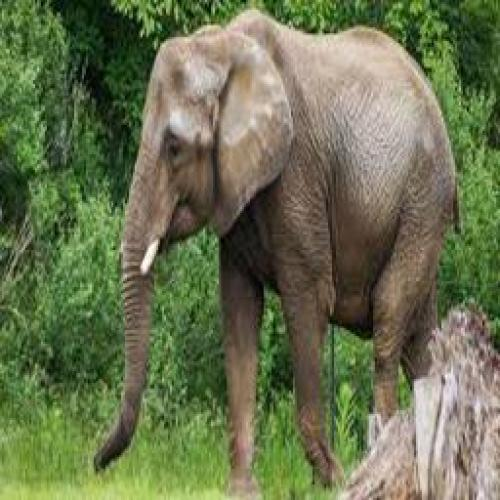african_elephant-endangered: (94, 9, 458, 494)
